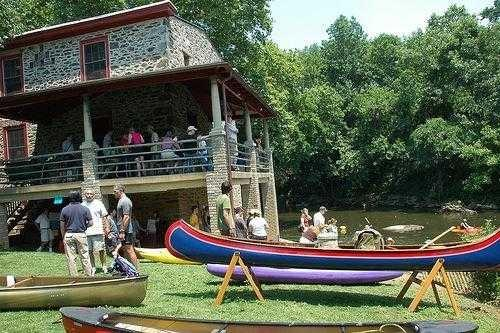kayak: (165, 218, 499, 286), (0, 271, 148, 311), (60, 305, 237, 333)
